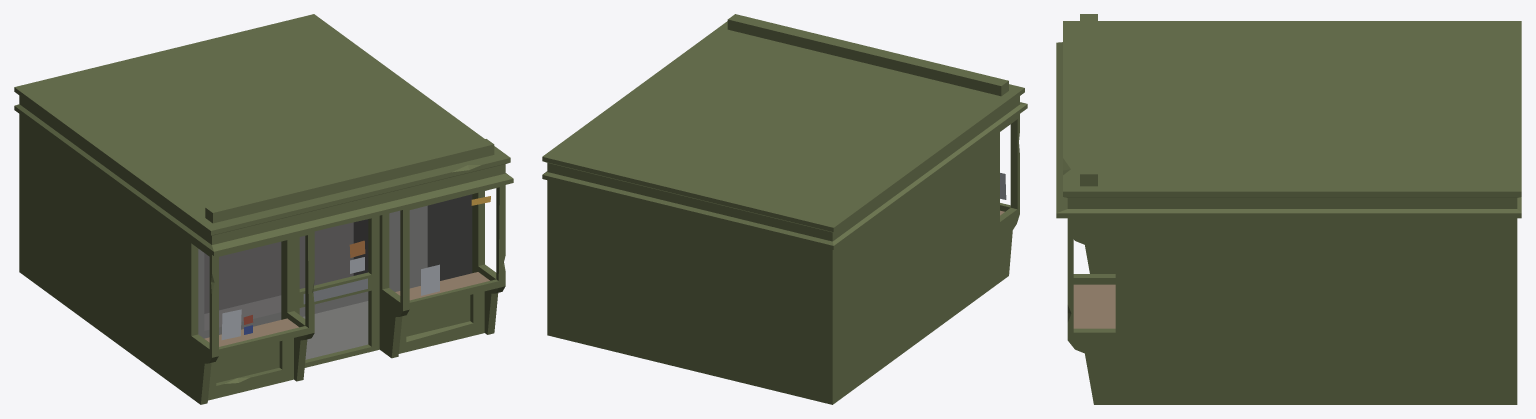
File: shop_04.glb
3 views of the same model, side by side, from view 1: azimuth 30°, elevation 25°; view 2: azimuth 150°, elevation 25°; view 3: azimuth 270°, elevation 25° (orthographic). The views are drawn at different scales.
Parts seen in each view (by area): view 1: SM_Bld_Shop_04; view 2: SM_Bld_Shop_04; view 3: SM_Bld_Shop_04.
Boxes of the visible parts, x1,y1,x2,y2 form: SM_Bld_Shop_04: [14, 14, 513, 404]; SM_Bld_Shop_04: [542, 14, 1027, 404]; SM_Bld_Shop_04: [1056, 14, 1521, 404].
Size of the model in its own units: 5.11 by 3.17 by 5.89.
Materials: 1 (1 with a texture image).
